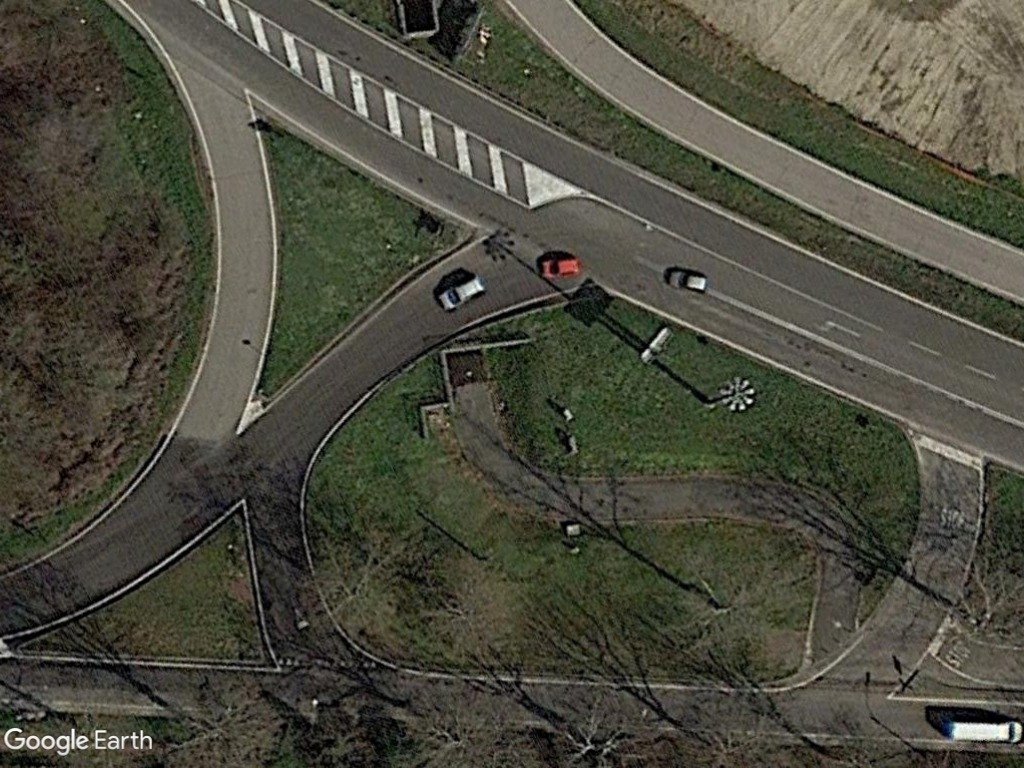car: (432, 268, 486, 316), (661, 263, 713, 296), (537, 253, 584, 284)
van: (944, 712, 1024, 747)
